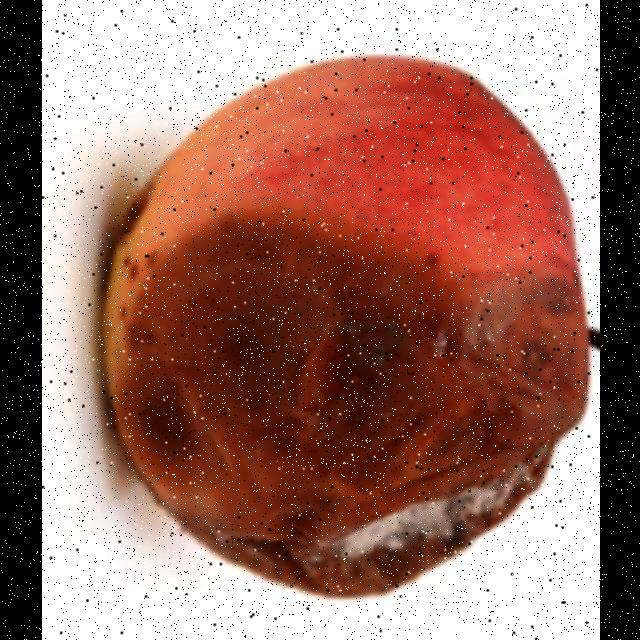Apel Tidak Segar: (90, 52, 584, 610)
